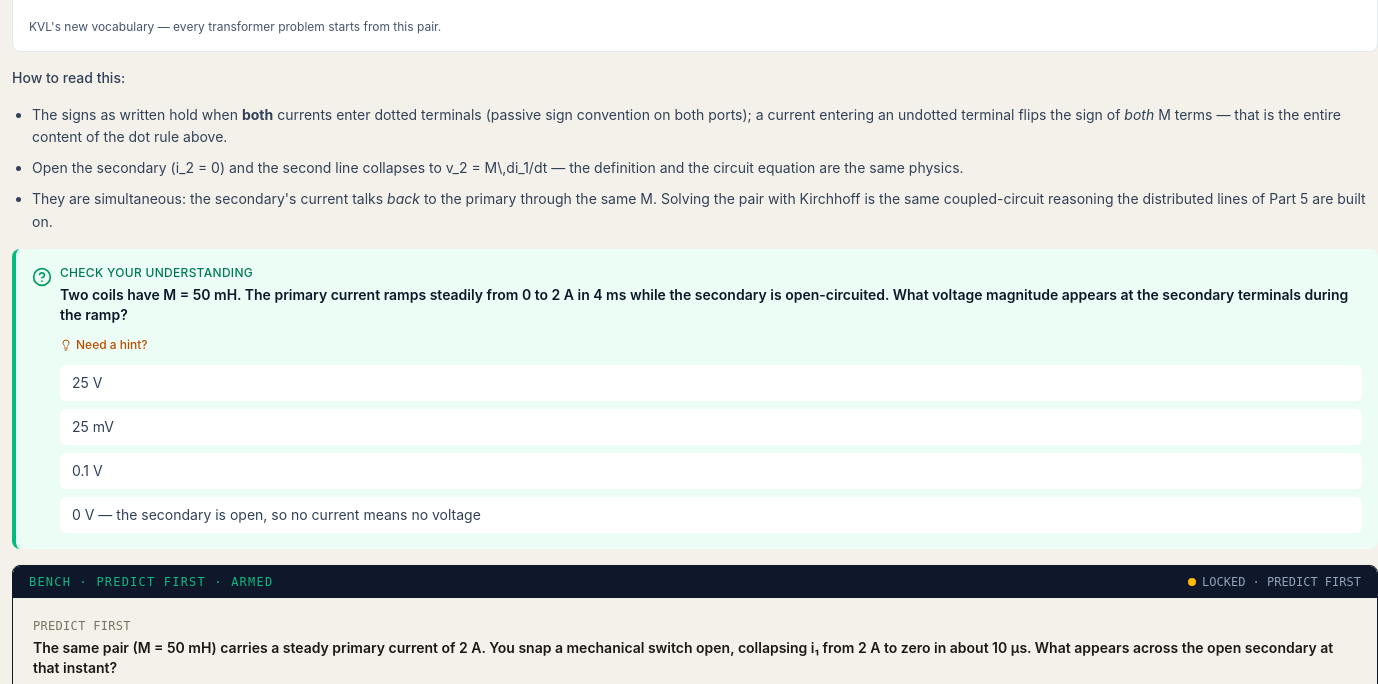
Test case: Transformers — section 3.4 page (mutual-inductance extension) › CC-M1: the open-secondary ramp check marks 25 V correct
(page scrolled)
Expected: the text "ramps steadily from 0 to 2 A in 4 ms" is shown, [60, 286, 1348, 323]
Click the button "25 V".
click(87, 383)  # box [60, 365, 1362, 401]
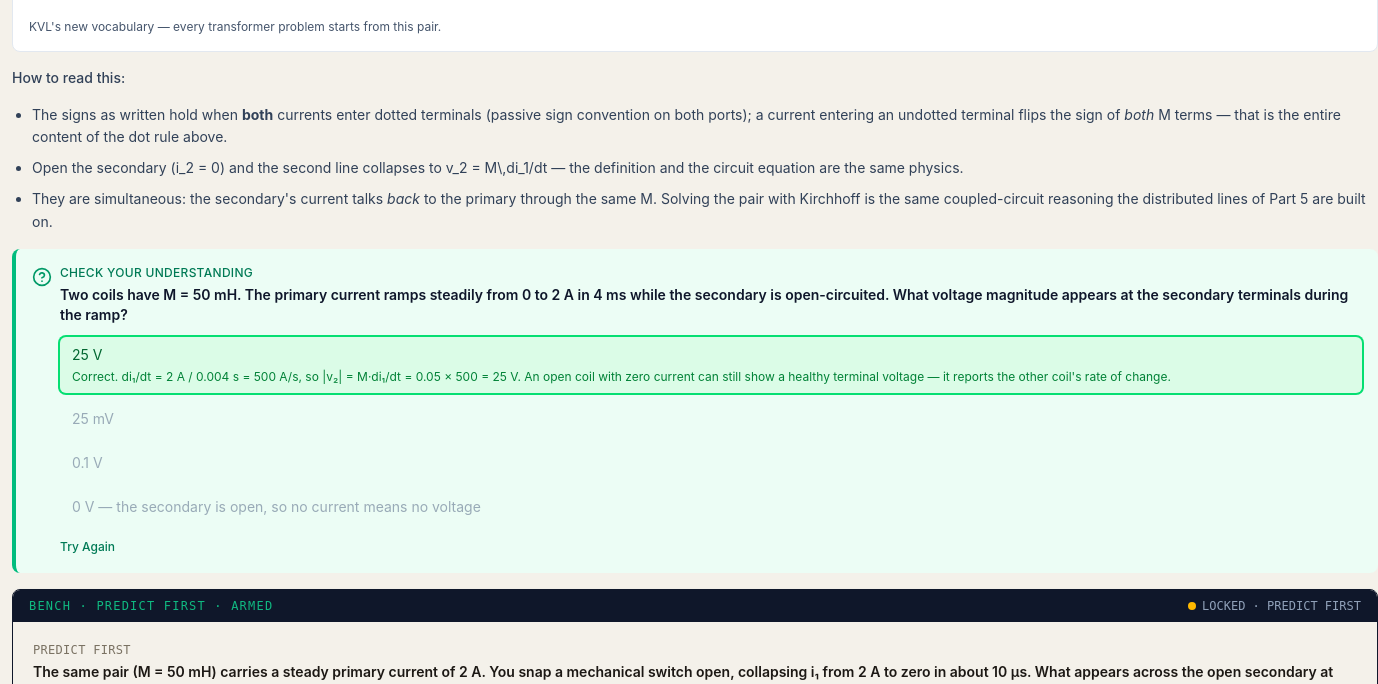
Expected: the text "500 A/s" is shown, [72, 369, 1171, 384]
